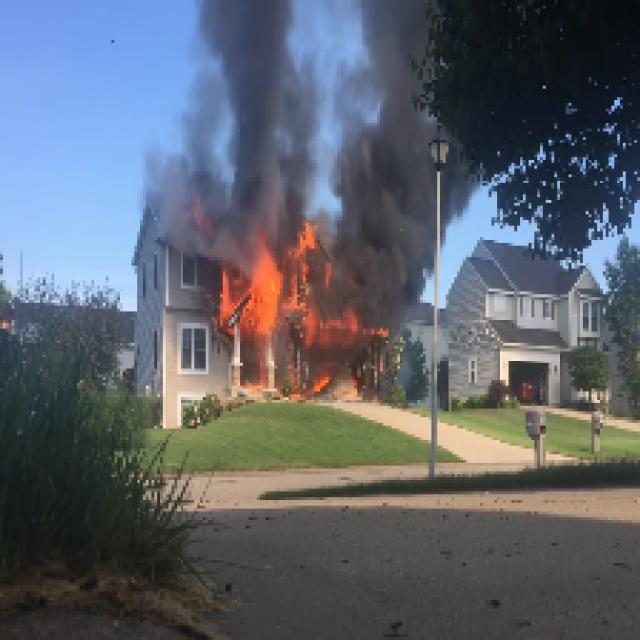Fire: (220, 243, 329, 340)
Smoke: (157, 2, 326, 228), (337, 2, 432, 294)
